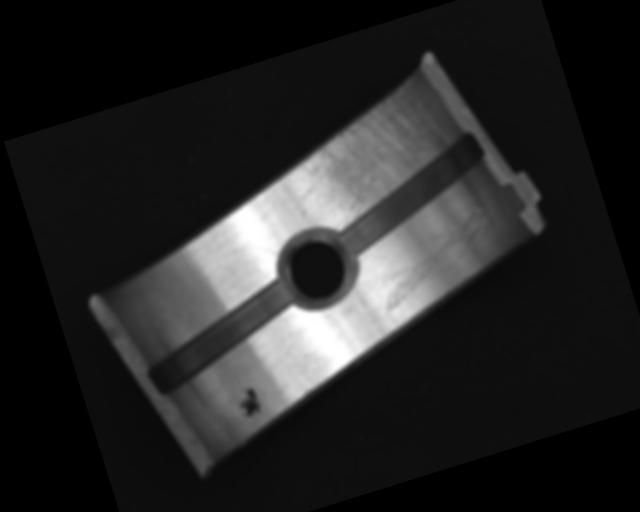blot: (230, 382, 266, 423)
gap: (317, 127, 502, 261), (133, 278, 311, 400)
hole: (274, 228, 359, 315)
nick: (364, 207, 501, 312)
scratch: (275, 70, 466, 243)
